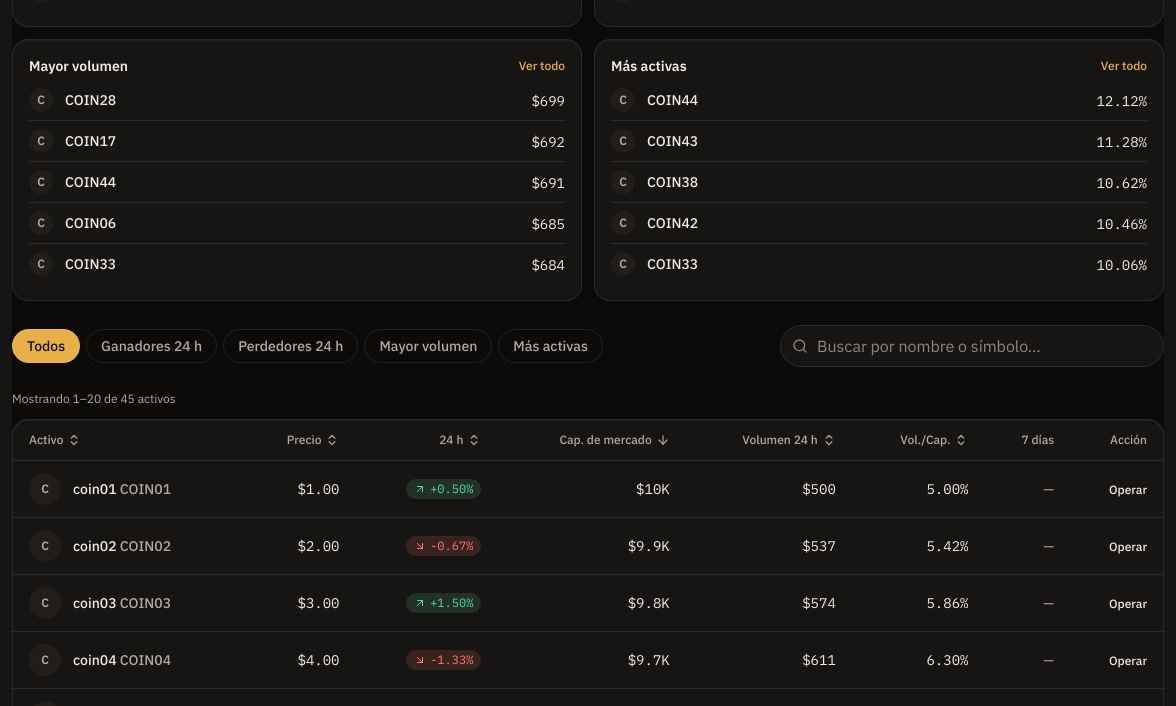
MarketExplorer: search › filters, replaces the history entry, and hides the top cards
(page scrolled)
Type "coin1" into the search field labelled "Buscar por nombre o símbolo".
click(972, 346); type("coin1")  # box [780,325,1164,367]
(page scrolled)
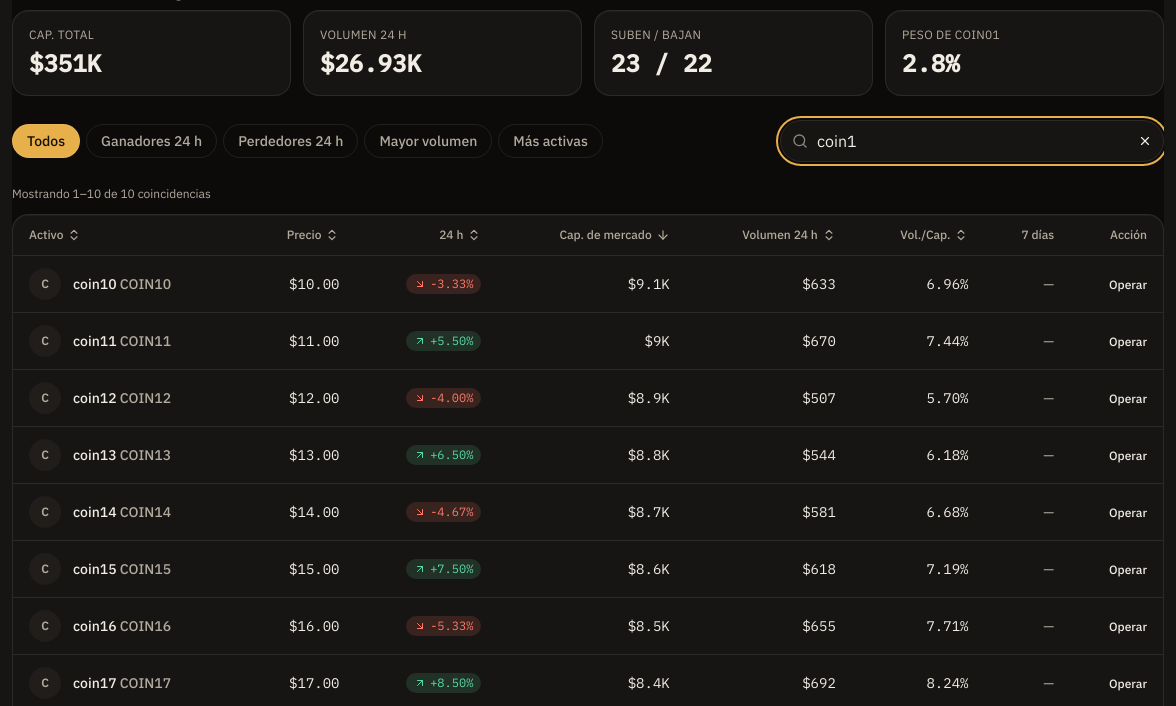
Expected: the message reads "Mostrando 1–10 de 10 coincidencias", [12,186,211,201]
